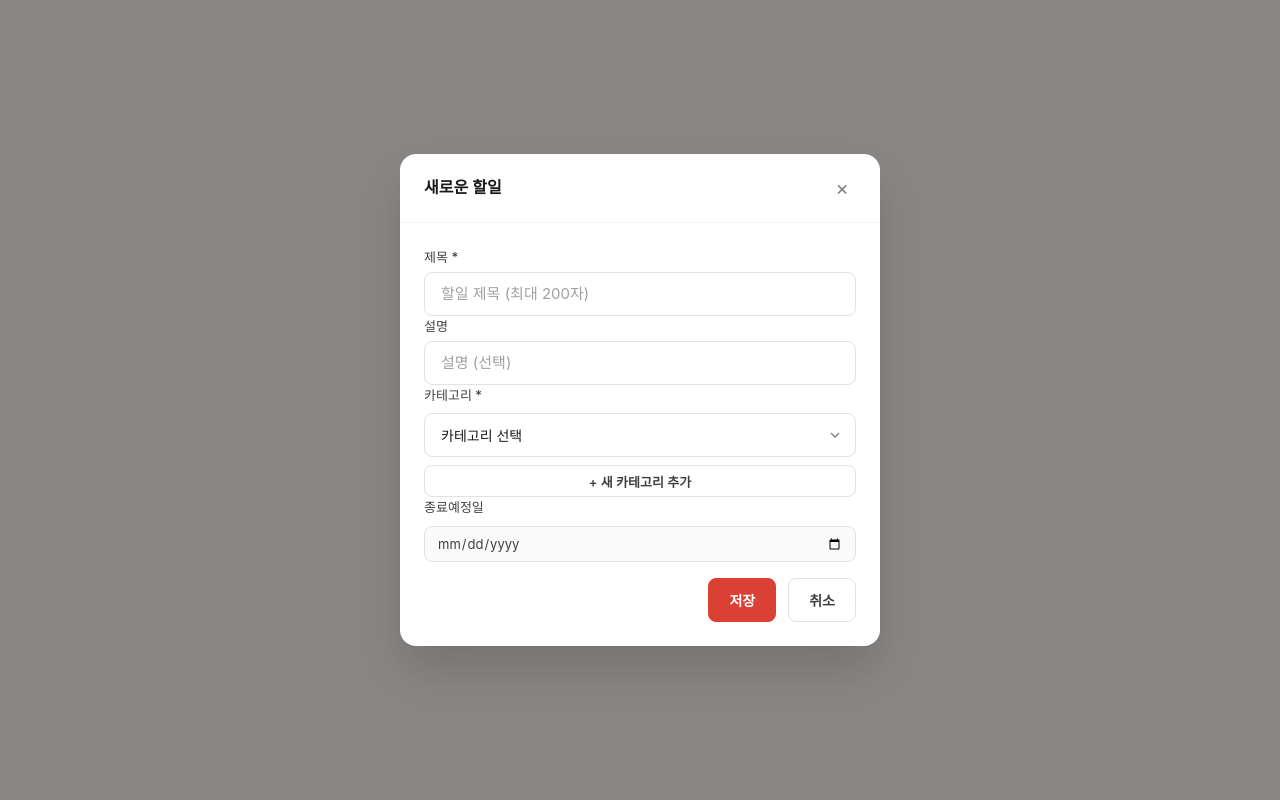
TodoFormModal — 등록 모드 (create) › 카테고리 미선택 시 에러가 표시된다
Type "할일 제목" into the field with test id "title-input". click: (640, 294)
box: [424, 272, 856, 316]
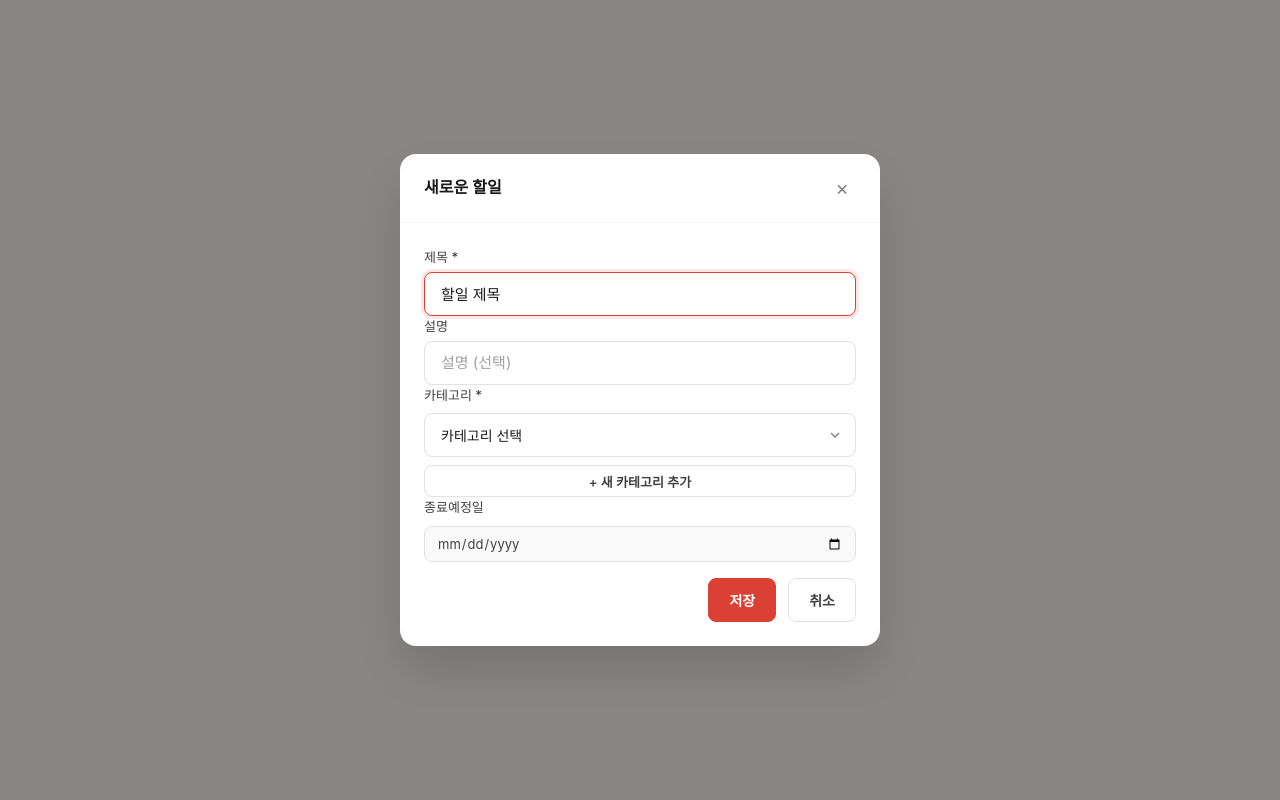
Click the button with test id "form-submit". click: click(742, 600)
box: [708, 578, 776, 622]
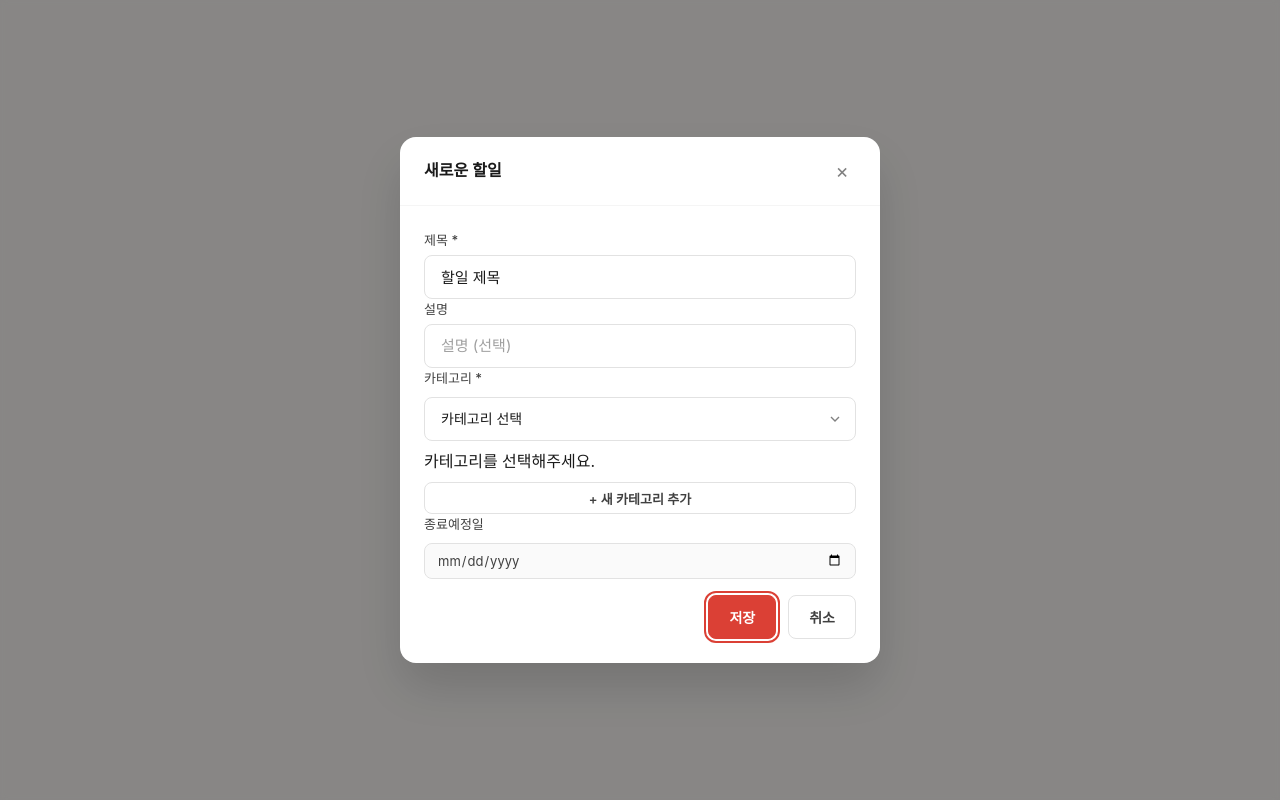
Now the message with test id "category-error" reads "카테고리를 선택해주세요.", box [424, 450, 595, 470]
